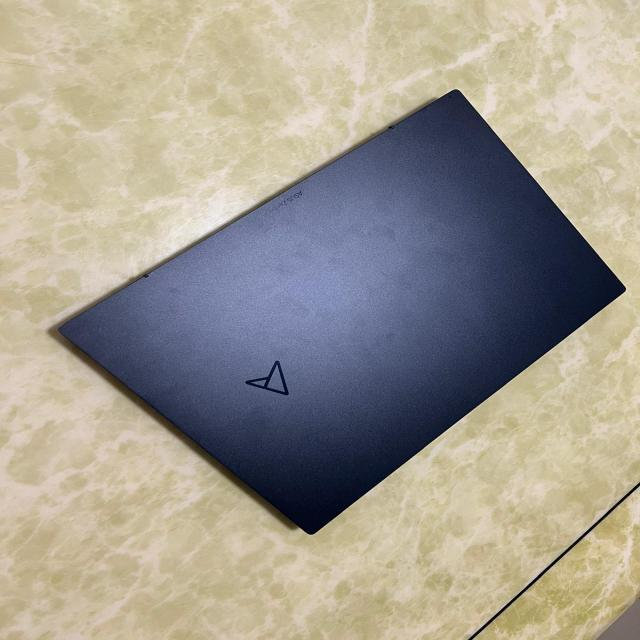laptop: (51, 87, 627, 535)
